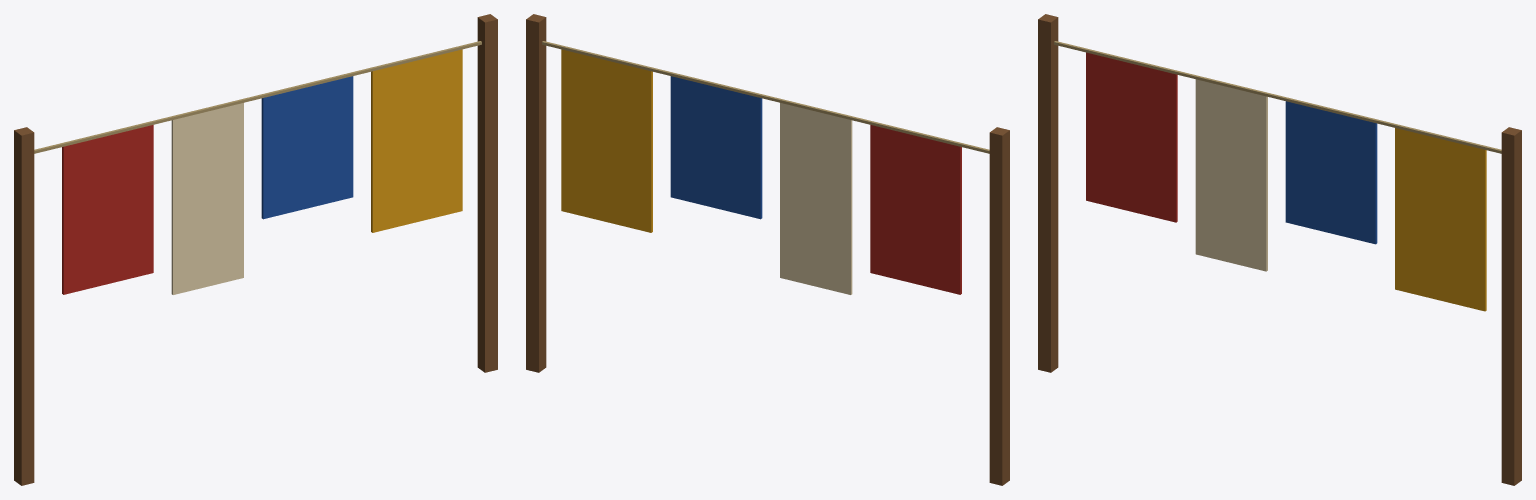
The model's file is dc_cloth_line.glb.
3 views of the same model, side by side, from view 1: azimuth 30°, elevation 25°; view 2: azimuth 150°, elevation 25°; view 3: azimuth 330°, elevation 25° (orthographic).
Parts seen in each view (by area): view 1: dc_cloth_line; view 2: dc_cloth_line; view 3: dc_cloth_line.
Part boxes in pixels (box(x1,y1,x2,y2)): dc_cloth_line: box(14, 14, 497, 485); dc_cloth_line: box(526, 14, 1009, 485); dc_cloth_line: box(1038, 14, 1521, 485).
Bounding box in the file's own units: 3.7 × 2.6 × 0.1.
